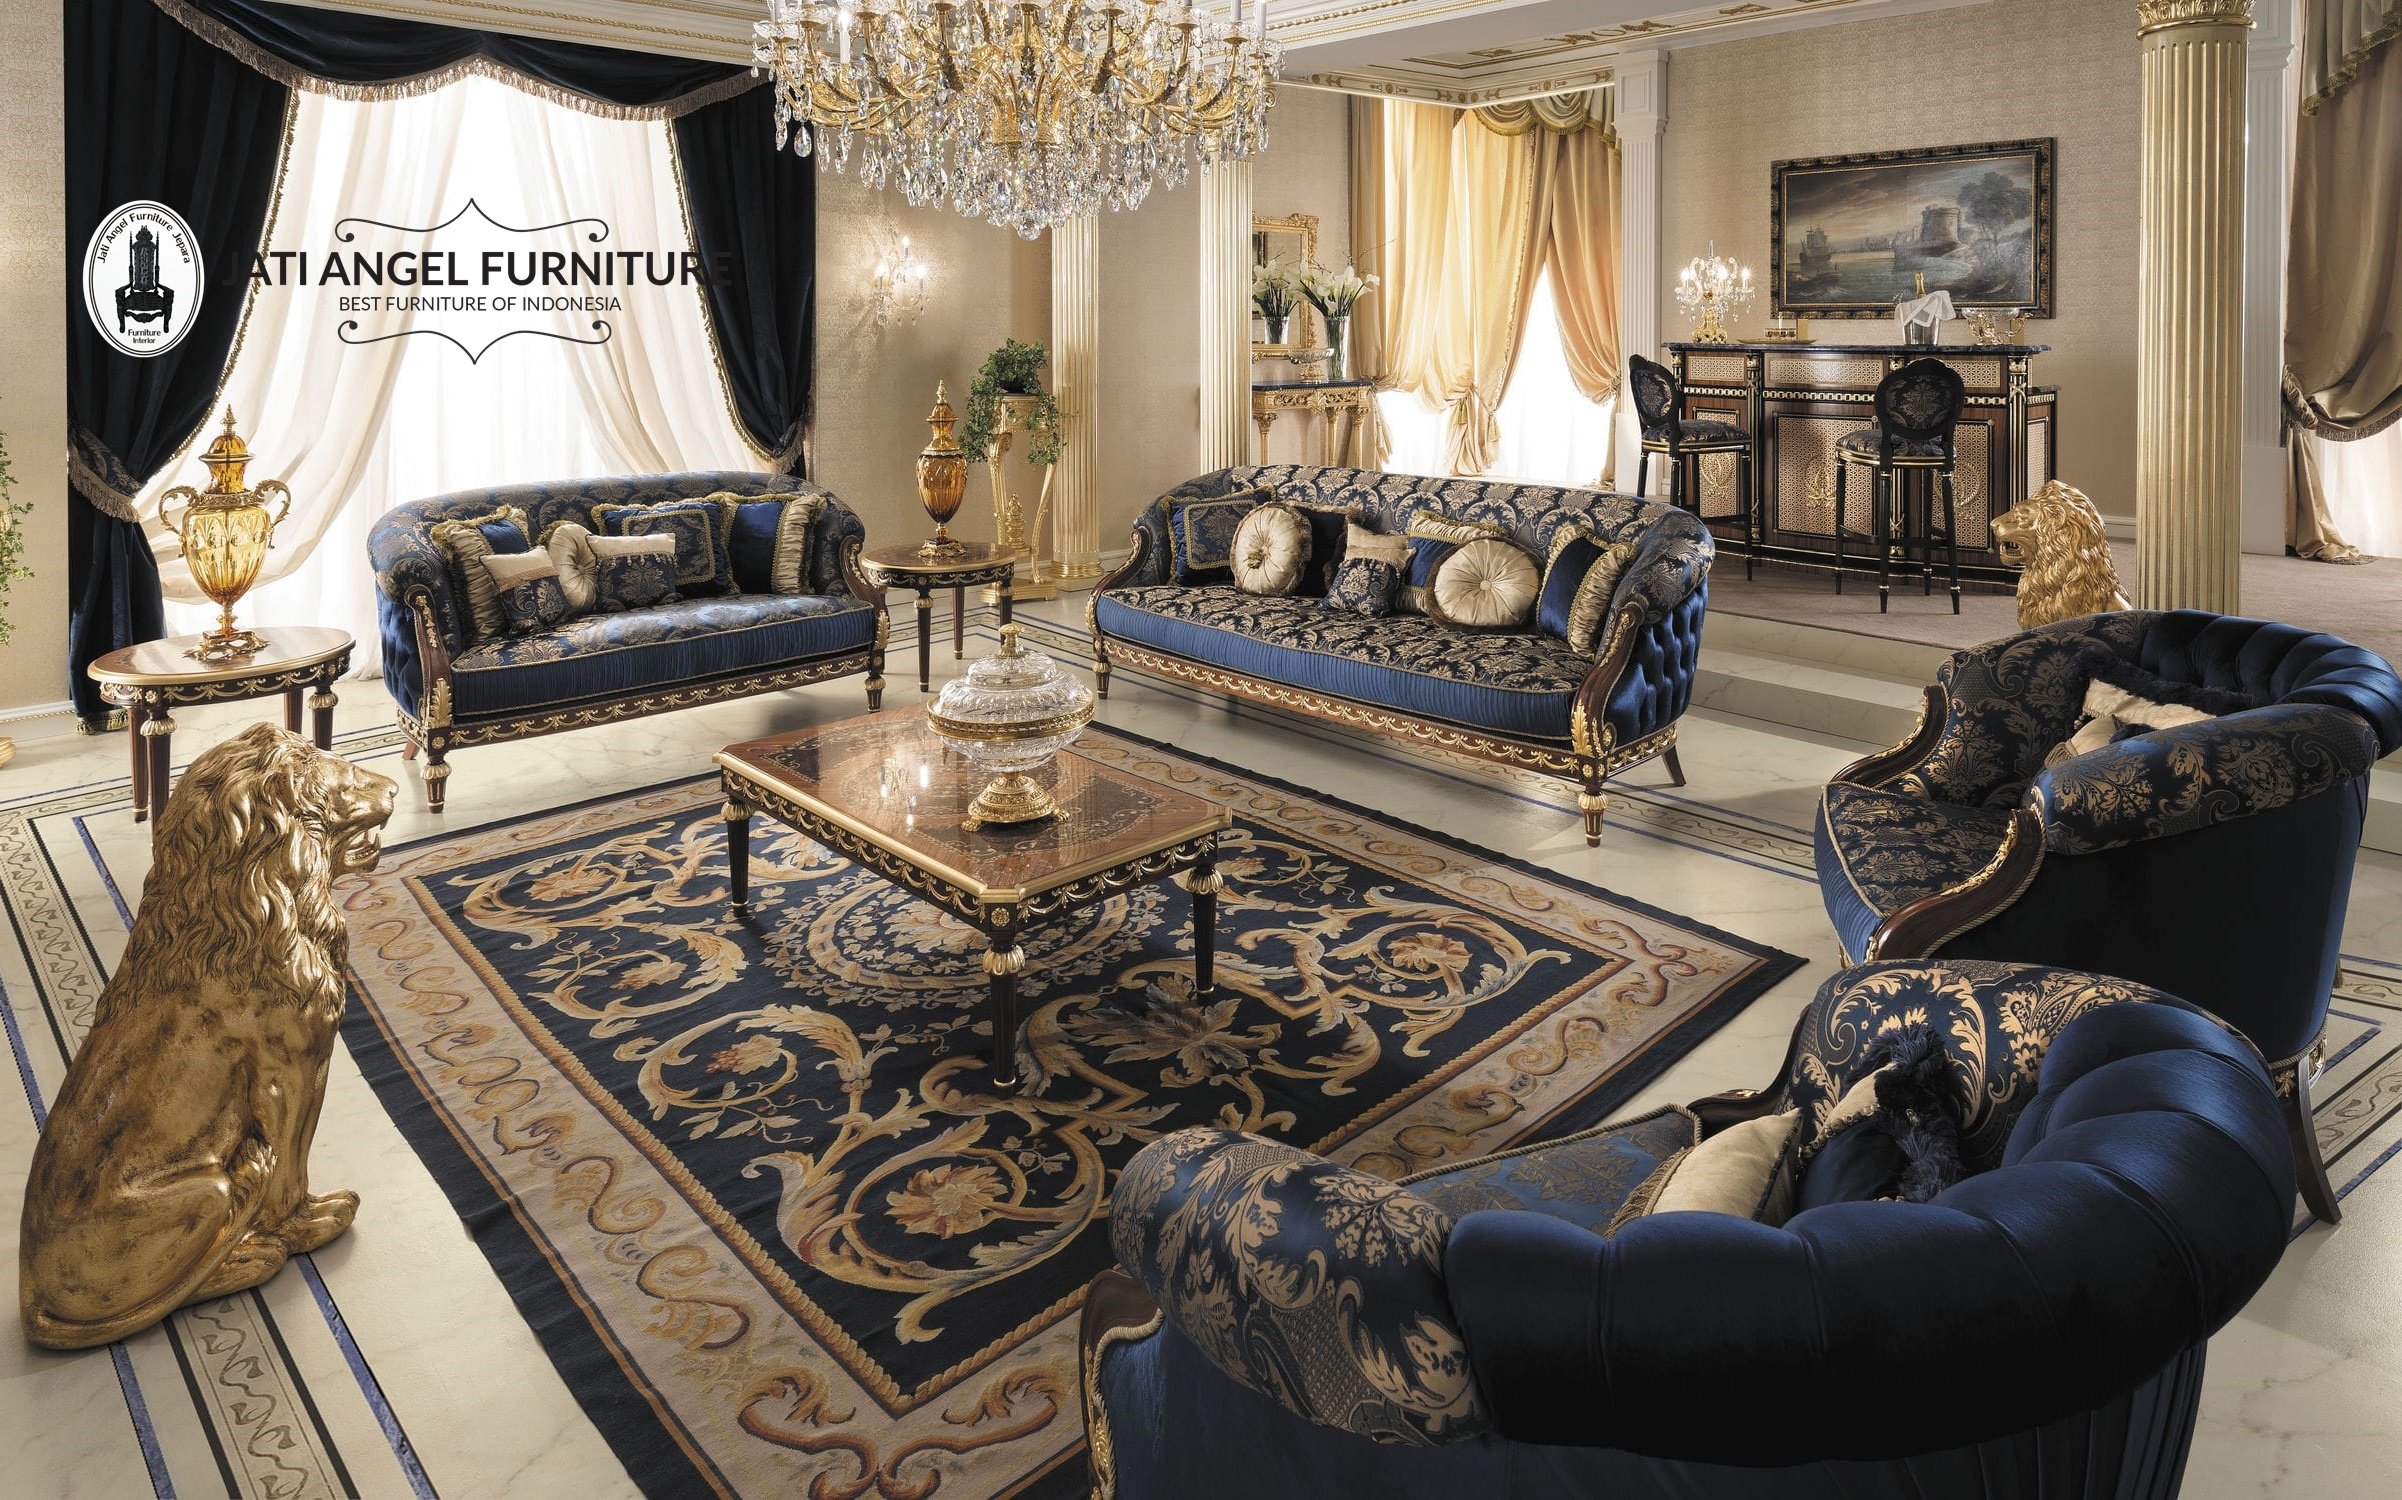bantal: (603, 499, 741, 600), (1165, 491, 1267, 588), (1536, 524, 1611, 655), (475, 544, 570, 631), (1327, 524, 1403, 624), (589, 532, 683, 613)
kursi: (1061, 964, 2302, 1500), (1813, 603, 2354, 1241), (1823, 358, 1982, 622), (1616, 351, 1773, 498)
lukisan: (1761, 137, 2065, 323)
meja: (724, 696, 1248, 1054), (90, 624, 358, 753)
sova: (1085, 463, 1725, 753), (363, 480, 907, 715)
tanaman: (1303, 264, 1374, 372)
